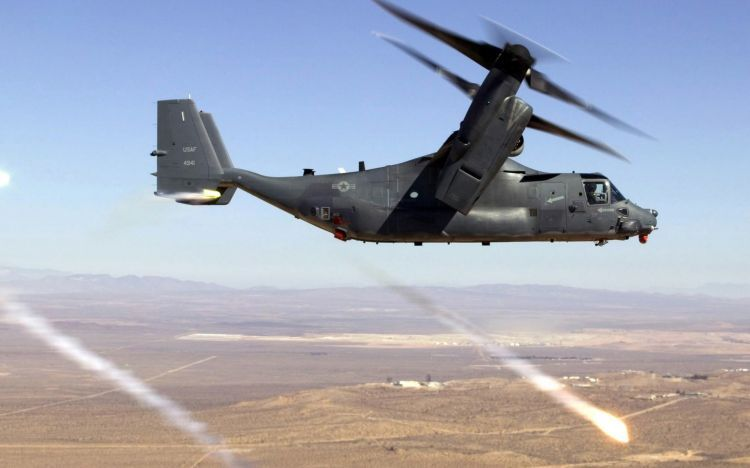Aeronef_militaire: (135, 1, 682, 258)
